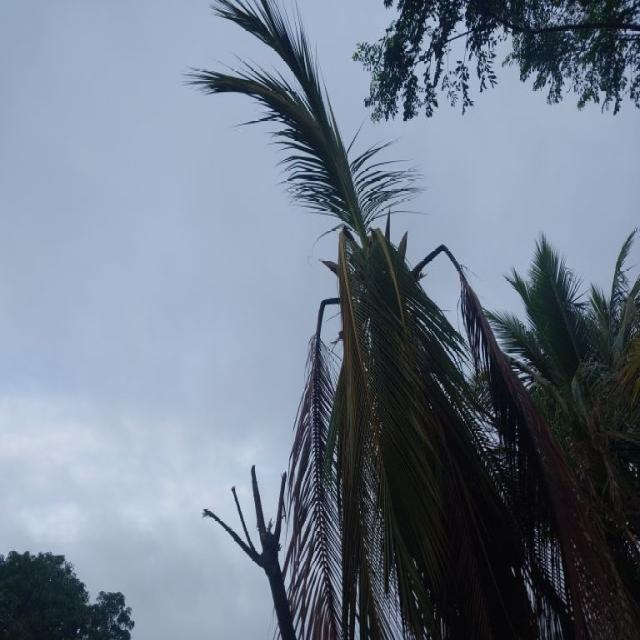bud root dropping: (192, 2, 640, 638)
